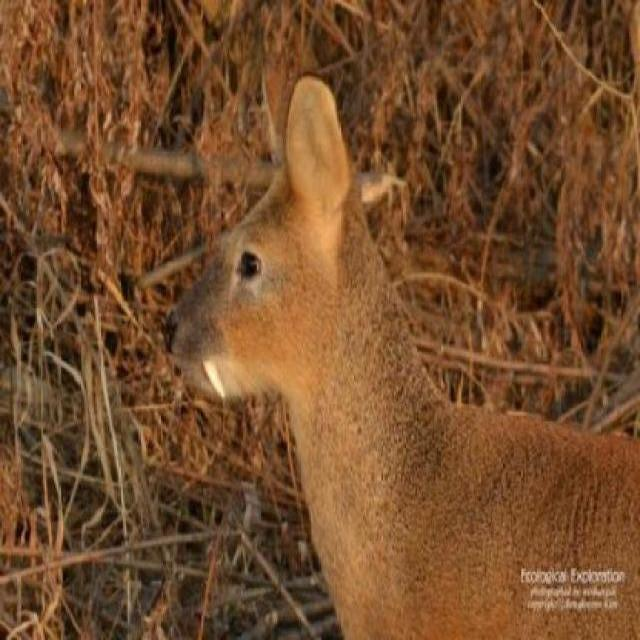deer: (164, 66, 638, 565)
